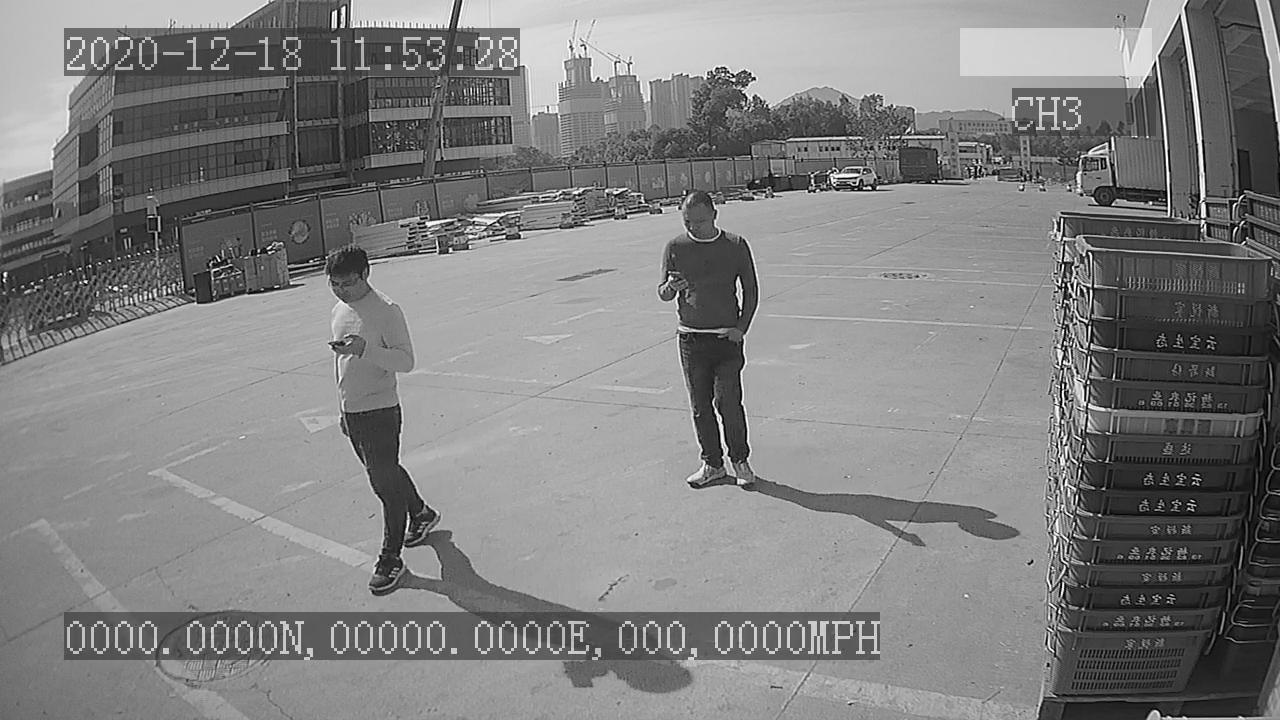person: (311, 233, 445, 599), (652, 185, 767, 495)
